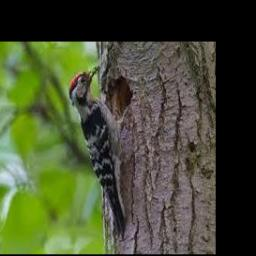Woodpecker: (69, 65, 132, 239)
